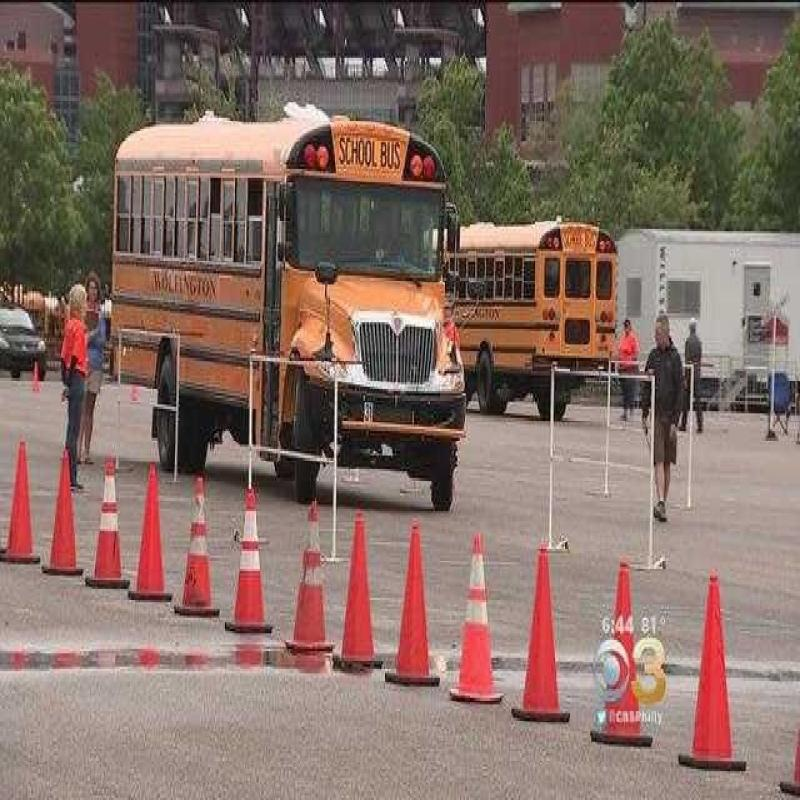bus: (94, 91, 481, 531)
